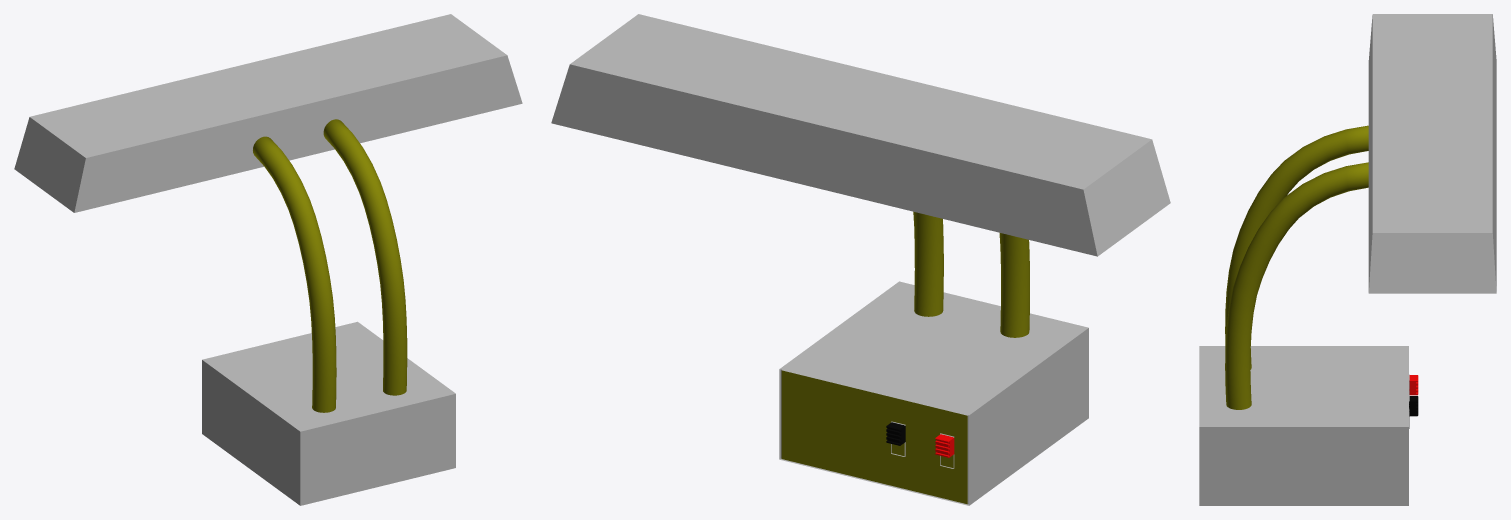
Rendered from Lamp_XO.fbx.
3 renders of one model, left to right at view 1: azimuth 30°, elevation 25°; view 2: azimuth 150°, elevation 25°; view 3: azimuth 270°, elevation 25°, orthographic. The views are drawn at different scales.
Visible parts, largest first — view 1: Empty_Mesh, Empty_Mesh_2; view 2: Empty_Mesh, Empty_Mesh_2, Empty_Mesh_3; view 3: Empty_Mesh, Empty_Mesh_2, Empty_Mesh_3.
Part boxes in pixels (box(x1,y1,x2,y2)): Empty_Mesh: box(14, 14, 522, 505); Empty_Mesh_2: box(253, 119, 407, 412); Empty_Mesh: box(551, 14, 1170, 505); Empty_Mesh_2: box(913, 211, 1029, 337); Empty_Mesh_3: box(886, 421, 954, 468); Empty_Mesh: box(1199, 14, 1496, 505); Empty_Mesh_2: box(1225, 125, 1368, 409); Empty_Mesh_3: box(1409, 374, 1418, 428).
Bounding box in the file's own units: 13.08 × 8.94 × 7.05.
